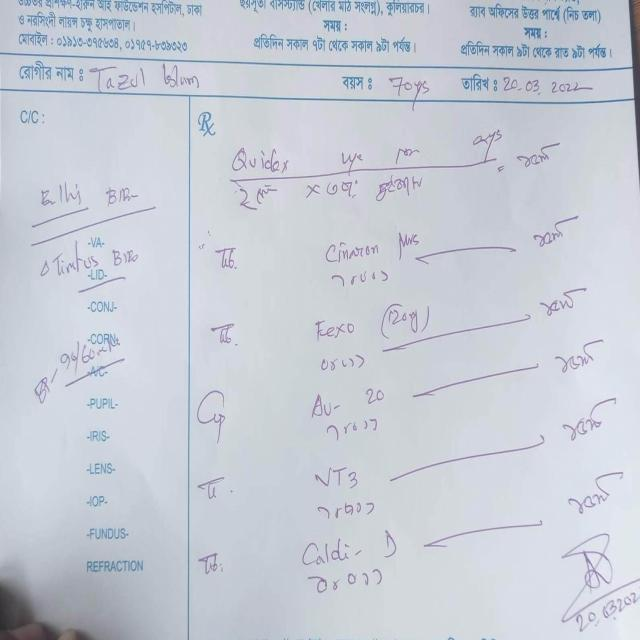AU-20: (306, 384, 385, 416)
Caldi: (299, 532, 362, 568)
Cinaron: (321, 235, 385, 269)
Fexo: (310, 312, 359, 346)
Quidex: (229, 142, 294, 178)
VT-3: (312, 461, 361, 496)
